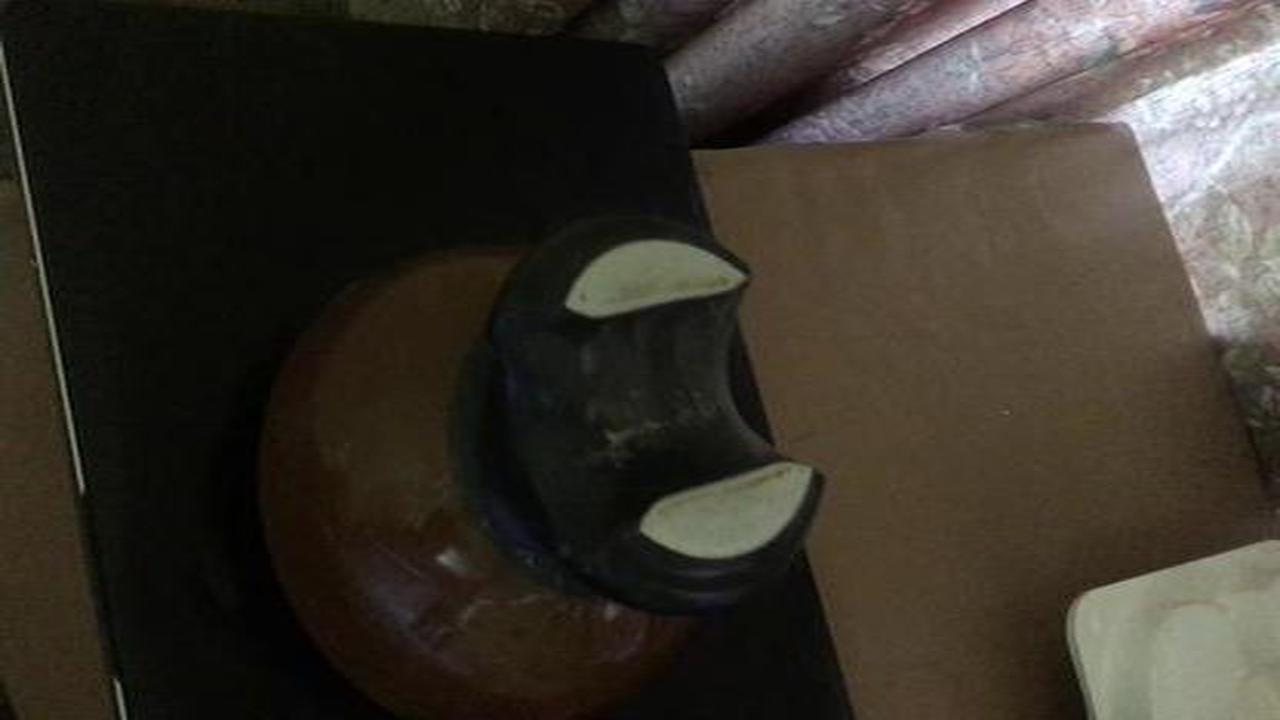insulator_pin: (231, 193, 844, 720)
